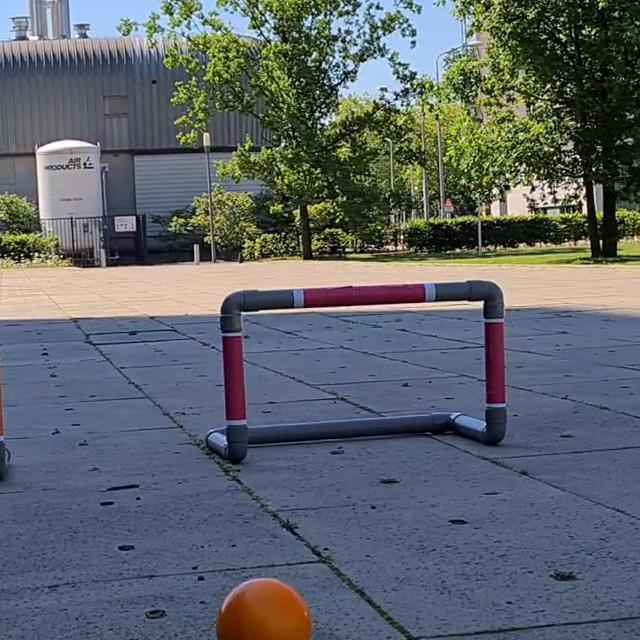ball: (214, 574, 315, 640)
